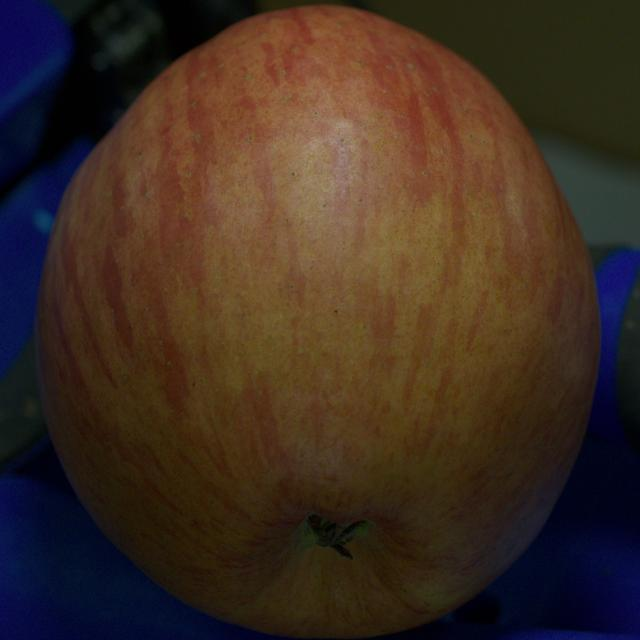apple: (34, 6, 599, 638)
